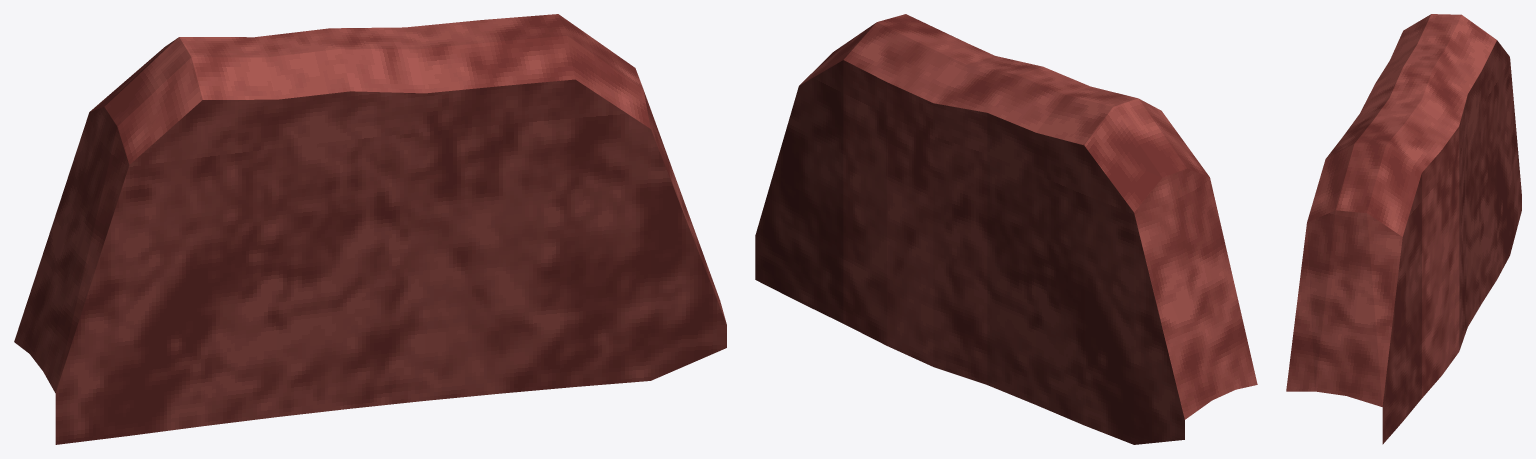
File: map_base_lip286.glb
3 views of the same model, side by side, from view 1: azimuth 30°, elevation 25°; view 2: azimuth 150°, elevation 25°; view 3: azimuth 270°, elevation 25° (orthographic). The views are drawn at different scales.
Parts seen in each view (by area): view 1: MapBaseLip286Rock; view 2: MapBaseLip286Rock; view 3: MapBaseLip286Rock.
Boxes of the visible parts, bbox=[...] form: MapBaseLip286Rock: bbox=[14, 14, 726, 444]; MapBaseLip286Rock: bbox=[755, 14, 1257, 444]; MapBaseLip286Rock: bbox=[1286, 14, 1521, 444].
Size of what is drawn, in the model's own units: 8.17 by 4.5 by 3.68.
2 materials, 2 textured.
